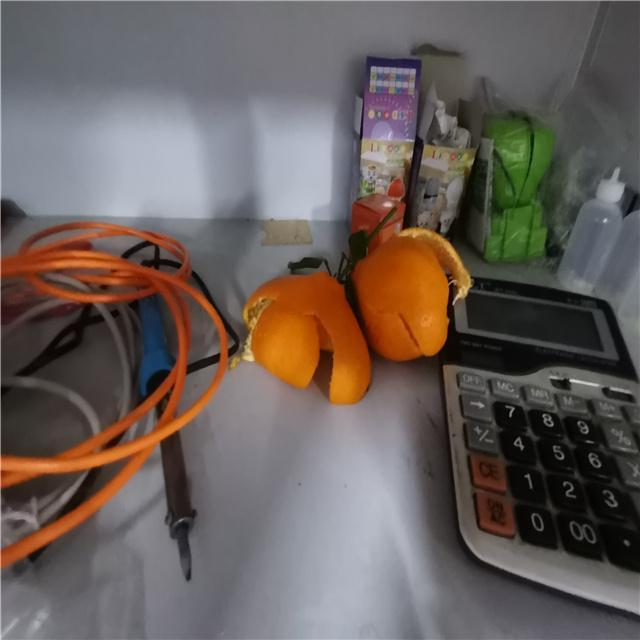orange-peel: (243, 220, 475, 405)
